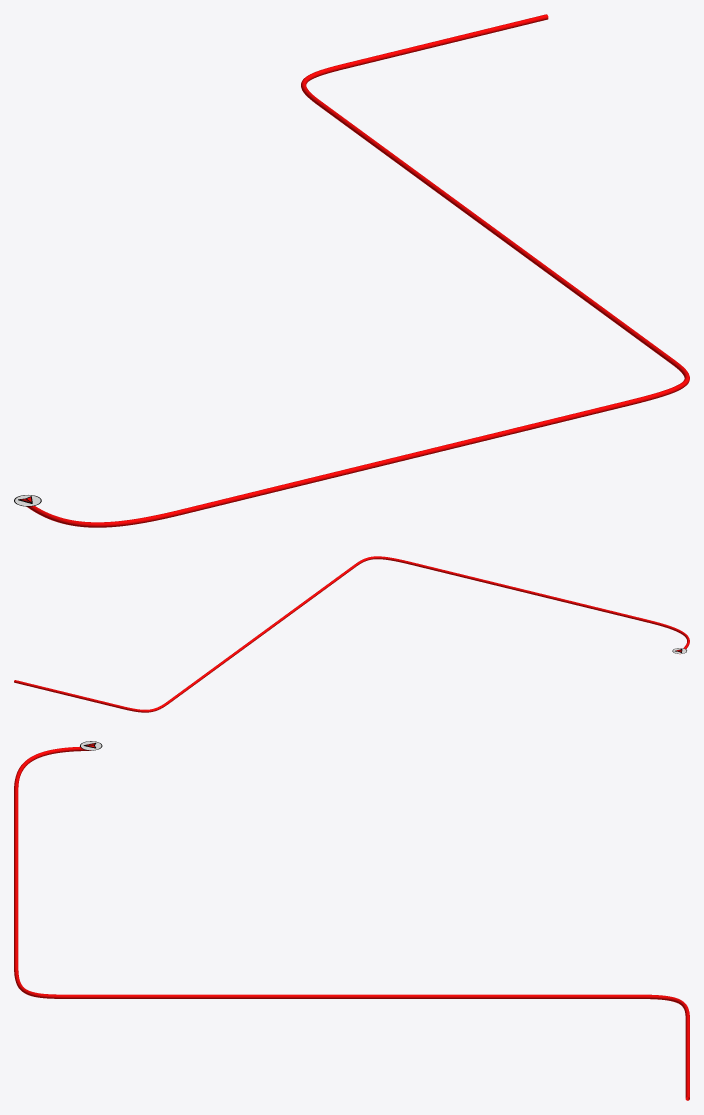
The model's file is route_0525a46e-bbfd-4a56-b373-19892627508a_en_target.glb.
The picture shows the model from 3 angles, top to bottom: view 1: azimuth 30°, elevation 25°; view 2: azimuth 150°, elevation 25°; view 3: azimuth 270°, elevation 25°; orthographic projection. The views are drawn at different scales.
Visible parts, largest first — view 1: Station 7.003; view 2: Station 7.003; view 3: Station 7.003.
Part boxes in pixels (bbox=[...]): Station 7.003: bbox=[27, 14, 689, 527]; Station 7.003: bbox=[14, 556, 689, 712]; Station 7.003: bbox=[14, 746, 689, 1100].
Size of the model in its own units: 15.25 by 0.1086 by 12.28.
